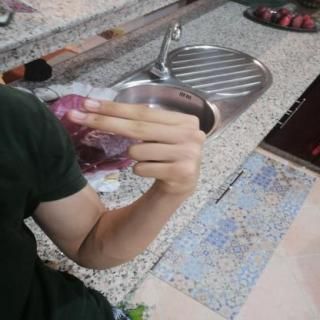AYN: (55, 91, 216, 204)
